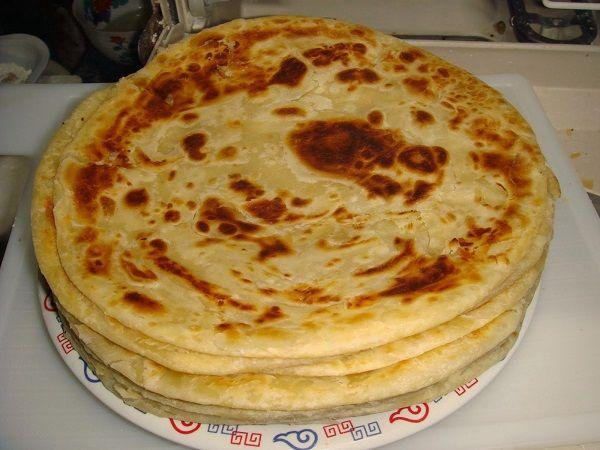chapati: (55, 18, 552, 357)
